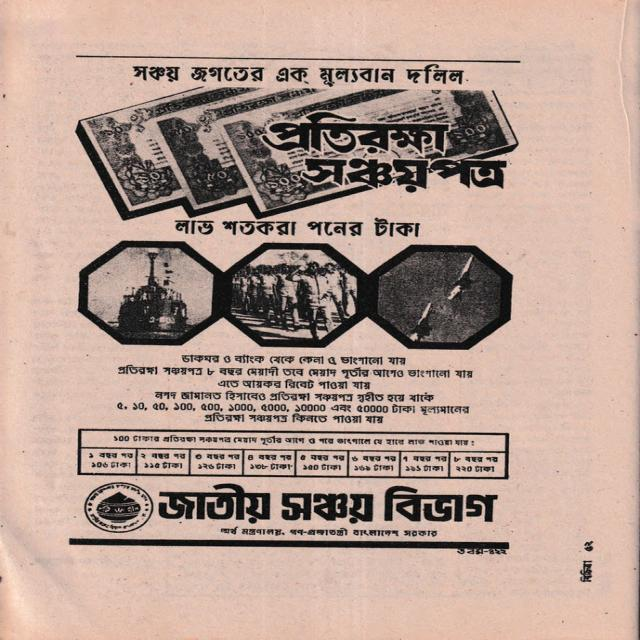advertisement: (67, 53, 522, 557)
page number: (584, 541, 594, 552)
text: (579, 560, 594, 582)
